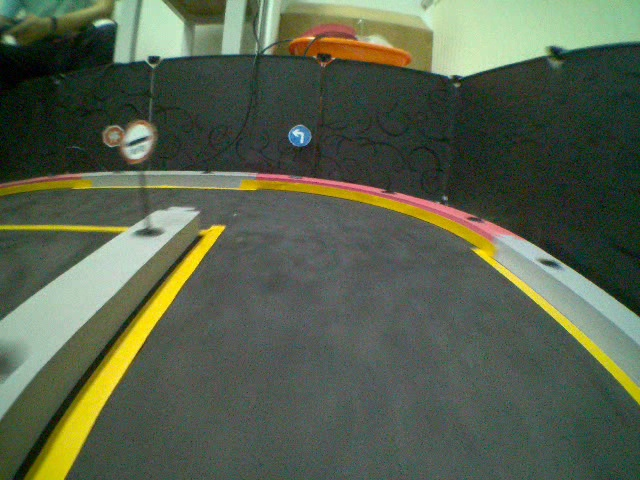Check: (122, 118, 157, 163)
Stop: (102, 124, 124, 148)
turn: (287, 121, 313, 150)
